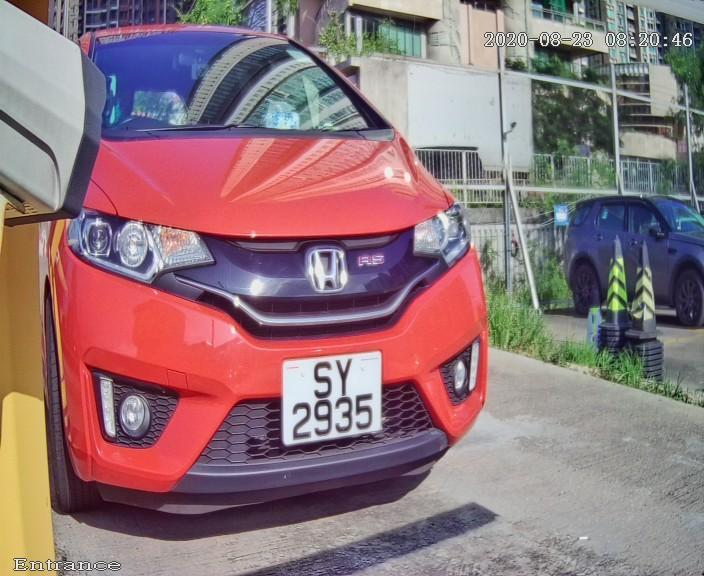License Plate: (271, 345, 393, 456)
